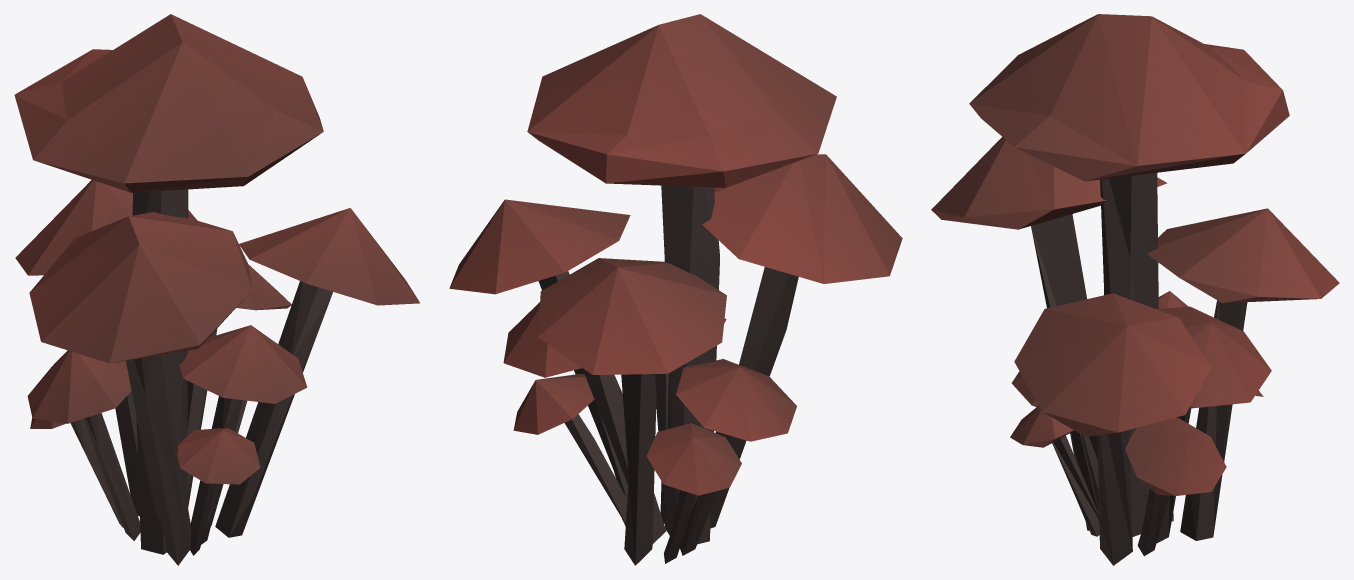
Rendered from Mush_1D_LOD.fbx.
3 views of the same model, side by side, from view 1: azimuth 30°, elevation 25°; view 2: azimuth 150°, elevation 25°; view 3: azimuth 270°, elevation 25° (orthographic).
Visible parts, largest first — view 1: polySurface1314; view 2: polySurface1314; view 3: polySurface1314.
Boxes of the visible parts, x1,y1,x2,y2 form: polySurface1314: (14, 14, 419, 565); polySurface1314: (449, 14, 902, 565); polySurface1314: (931, 14, 1339, 565).
Bounding box in the file's own units: 1.34 × 1.68 × 1.18.
